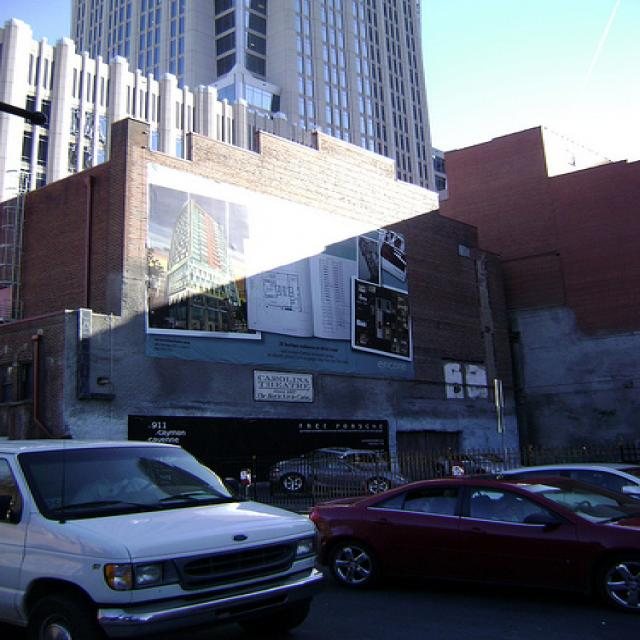Car: (0, 424, 335, 622), (310, 476, 640, 620)
